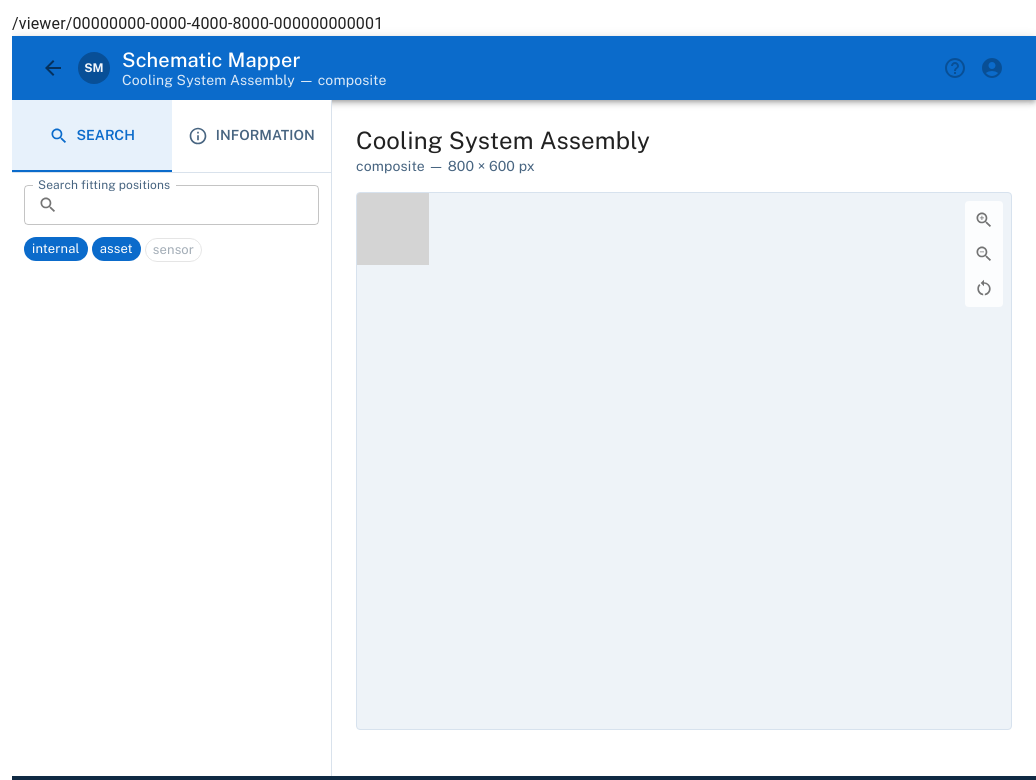
Test: ImageViewerPage › shows default drawer instruction text before any marker is clicked
The width and height of the screenshot is (1036, 780).
Click the tab "Information" at (251,136), box [172, 100, 331, 172]
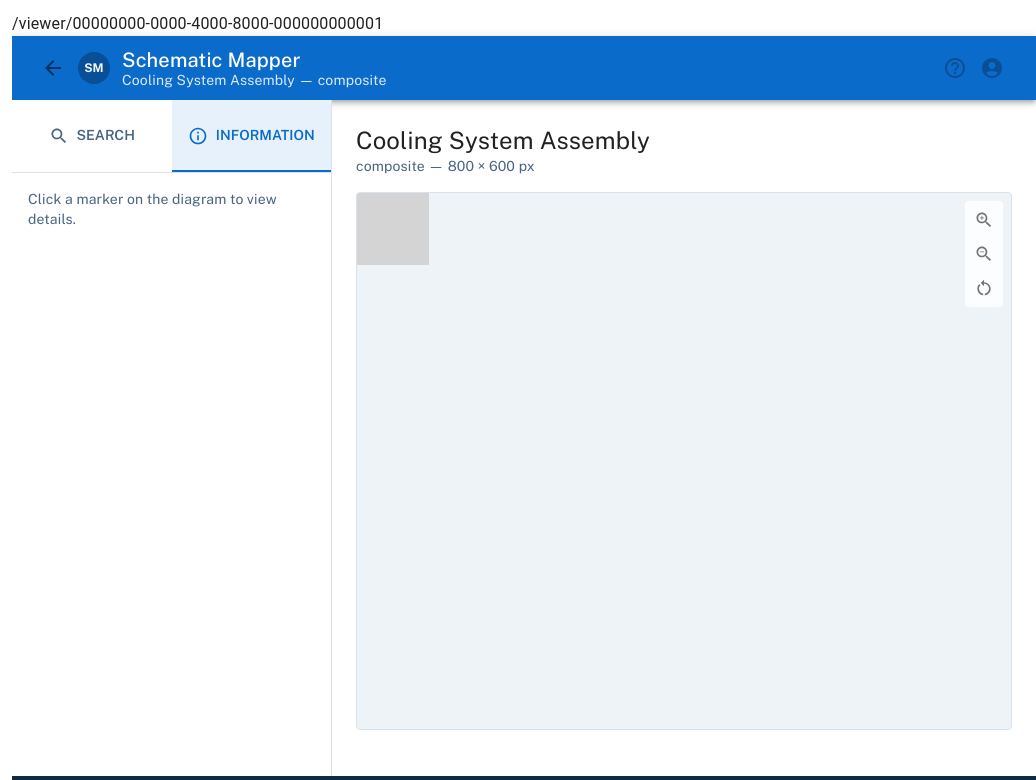
Now the text "Click a marker on the diagram to view details." is shown, box [28, 189, 315, 229]
